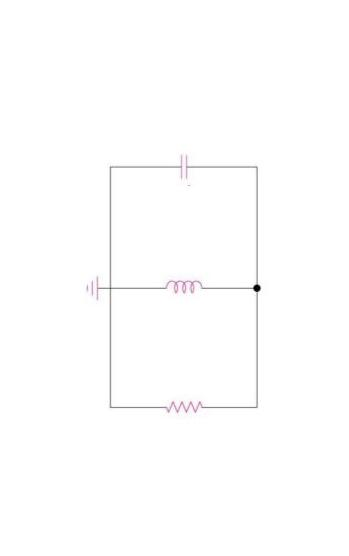resistor: (136, 380, 217, 434)
